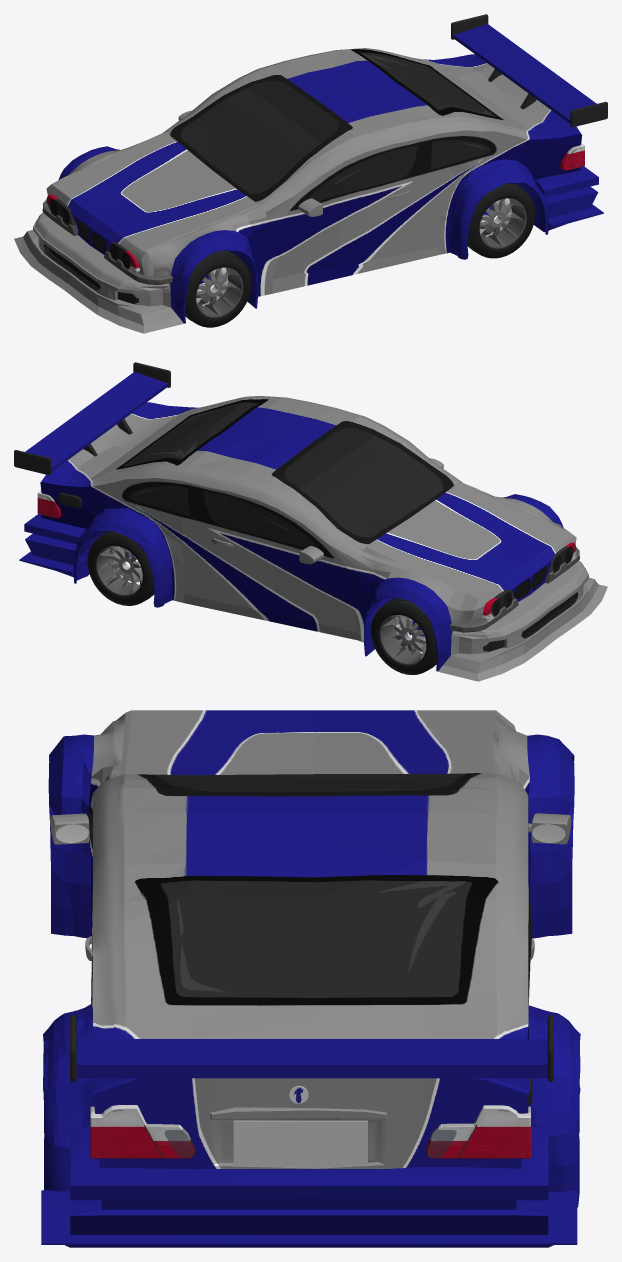
Rendered from BMW_m4.fbx.
3 renders of one model, top to bottom at view 1: azimuth 30°, elevation 25°; view 2: azimuth 150°, elevation 25°; view 3: azimuth 270°, elevation 25°, orthographic. The views are drawn at different scales.
Parts seen in each view (by area): view 1: Car_Body, Front_Bumper, Spoiler, Rims (×2), Backbumper, Tire1, Tire4, Eyecover2, Headlight2, Headlight1, Backlight1; view 2: Car_Body, Front_Bumper, Spoiler, Rims (×2), Backbumper, Tire2, Tire3, Eyecover2, Headlight1, Headlight2, Backlight2; view 3: Car_Body, Backbumper, Spoiler, LicensePlate, Backlight2, Backlight1, SideMirrors1, SideMirrors2.
Part boxes in pixels (x1,y1,x2,y2): Car_Body: (46,48,582,323); Front_Bumper: (14,212,183,333); Spoiler: (451,14,607,127); Rims (×2): (196,198,526,317); Backbumper: (532,166,603,231); Tire1: (184,250,251,327); Tire4: (467,183,535,258); Eyecover2: (104,251,172,284); Headlight2: (107,242,139,273); Headlight1: (46,194,76,225); Backlight1: (560,141,584,170); Car_Body: (40,396,576,671); Front_Bumper: (438,561,607,681); Spoiler: (14,362,170,475); Rims (×2): (96,545,426,665); Backbumper: (19,514,88,576); Tire2: (371,598,437,674); Tire3: (87,531,154,605); Eyecover2: (450,598,518,632); Headlight1: (481,589,514,621); Headlight2: (548,542,576,573); Backlight2: (37,489,60,518); Car_Body: (43,710,580,1207); Backbumper: (41,1125,577,1247); Spoiler: (70,1015,553,1081); LicensePlate: (233,1120,367,1167); Backlight2: (426,1105,530,1158); Backlight1: (90,1105,194,1158); SideMirrors1: (531,813,571,844); SideMirrors2: (50,813,89,844).
Bounding box in the file's own units: 497 × 141 × 240.
